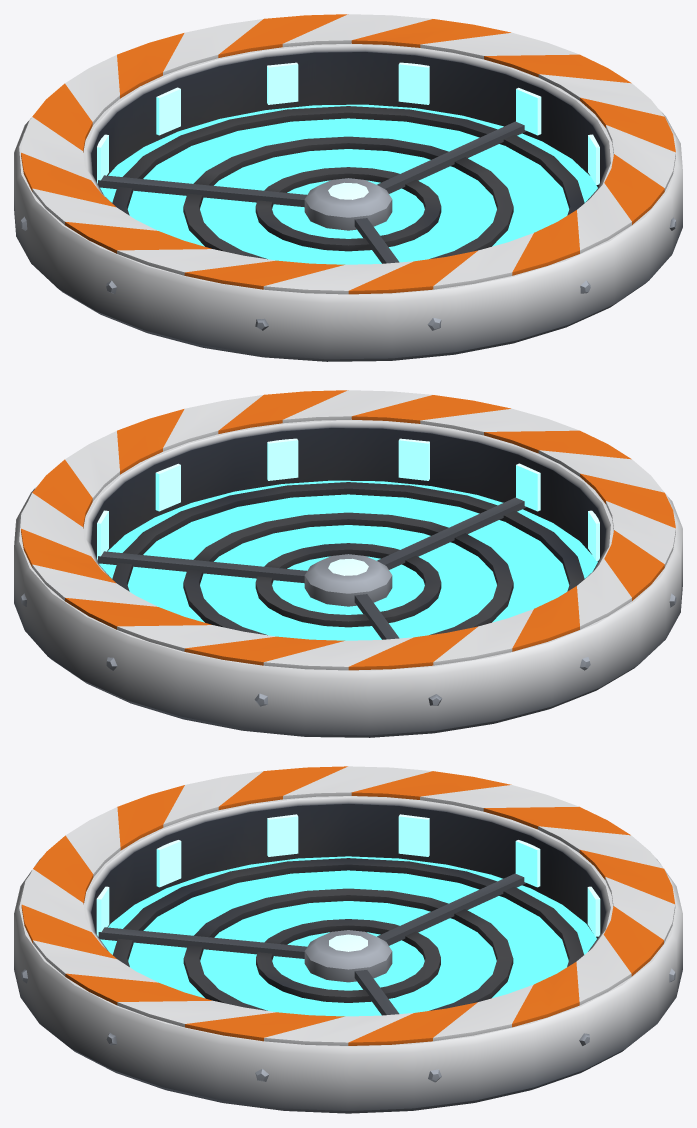
The model's file is updraft_vent_space.glb.
3 renders of one model, top to bottom at view 1: azimuth 30°, elevation 25°; view 2: azimuth 150°, elevation 25°; view 3: azimuth 270°, elevation 25°, orthographic.
Parts seen in each view (by area): view 1: updraft_vent_space; view 2: updraft_vent_space; view 3: updraft_vent_space.
Part boxes in pixels (x1=…): updraft_vent_space: x1=14, y1=14, x2=682, y2=361; updraft_vent_space: x1=14, y1=390, x2=682, y2=737; updraft_vent_space: x1=14, y1=766, x2=682, y2=1113.
Size of the model in its own units: 2.6 by 0.3 by 2.6.
